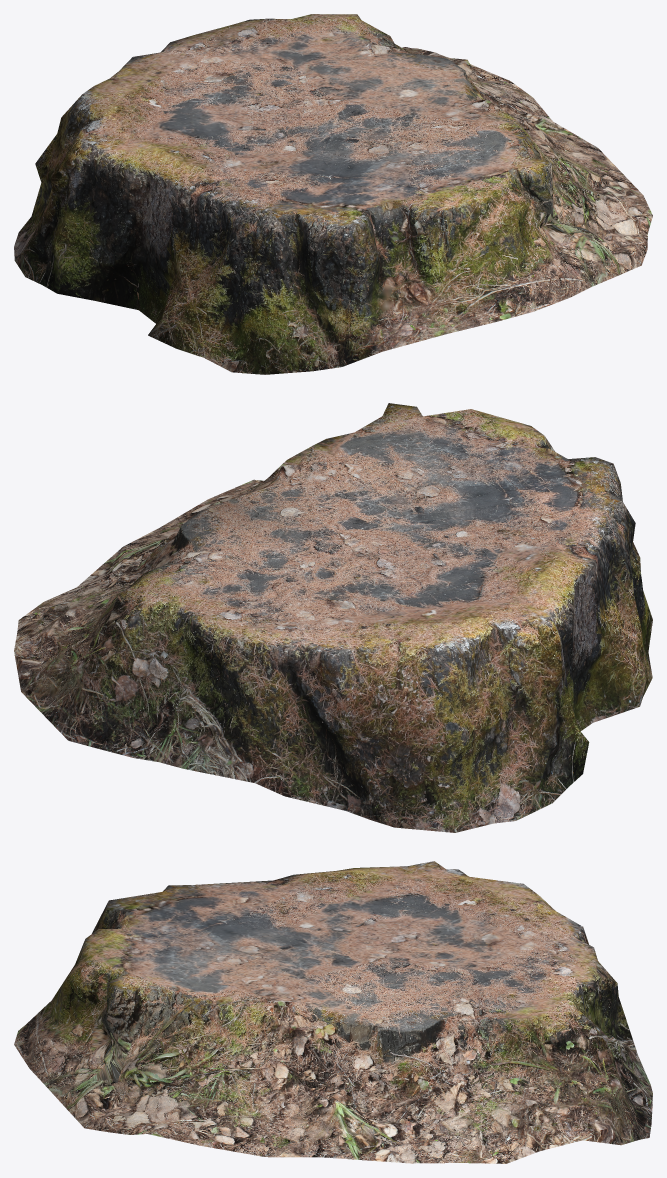
The model's file is Forest_stump_11.FBX.
3 views of the same model, one above another, from view 1: azimuth 30°, elevation 25°; view 2: azimuth 150°, elevation 25°; view 3: azimuth 270°, elevation 25° (orthographic). The views are drawn at different scales.
Parts seen in each view (by area): view 1: Forest_stump_11; view 2: Forest_stump_11; view 3: Forest_stump_11.
Boxes of the visible parts, left/top/right/bottom form: Forest_stump_11: left=14, top=14, right=652, bottom=374; Forest_stump_11: left=14, top=403, right=652, bottom=832; Forest_stump_11: left=14, top=861, right=652, bottom=1163.
Size of the model in its own units: 1.49 by 0.4835 by 1.7.
1 material, 1 textured.
